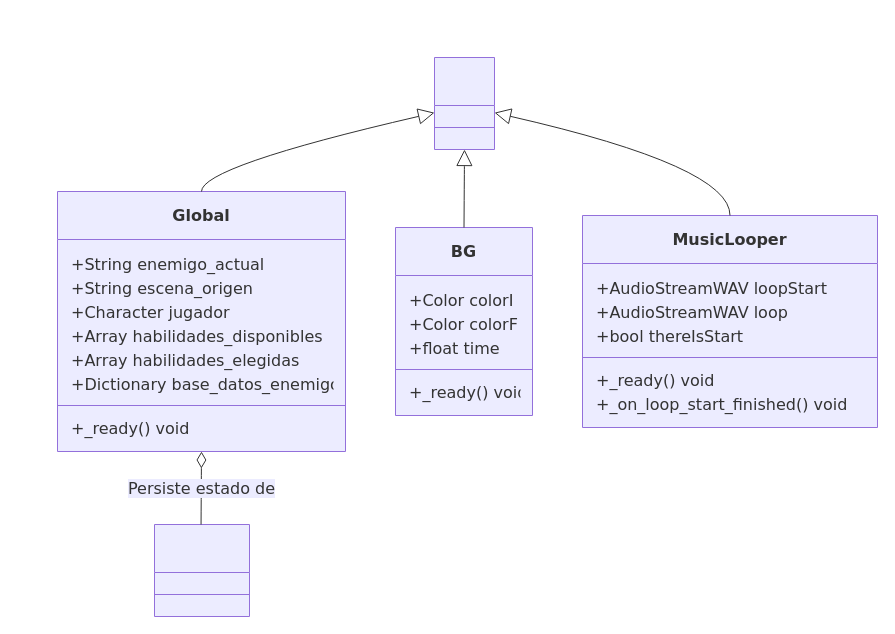
The diagram is 895 pixels wide and 634 high, and some of its shapes have lost their labels. The centre of each missing label's shape, as x and y in pixels:
Character: point 202,570
Node: point 464,103
